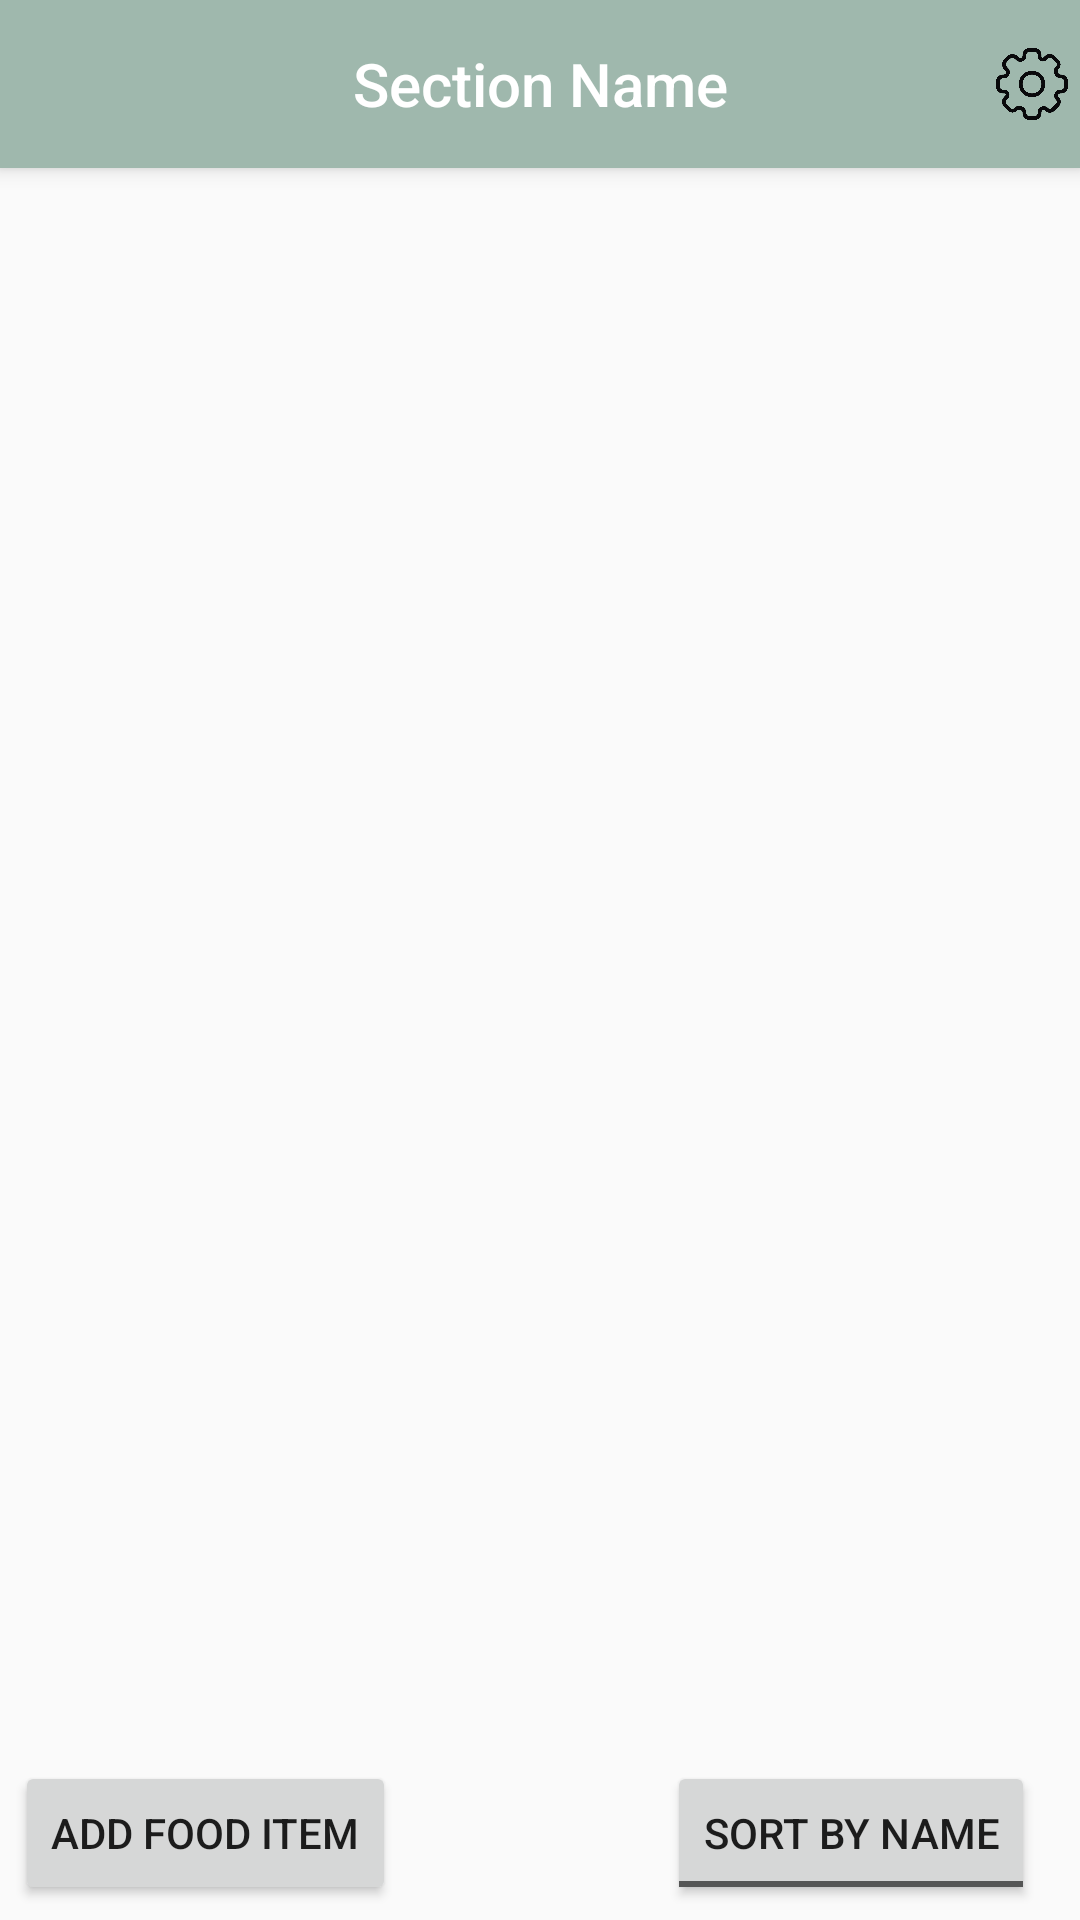

Screen size 1080w x 1920h. Icon name, then its box in pixels as (x1, y1, x2, y2):
settings: (996, 48, 1068, 120)
